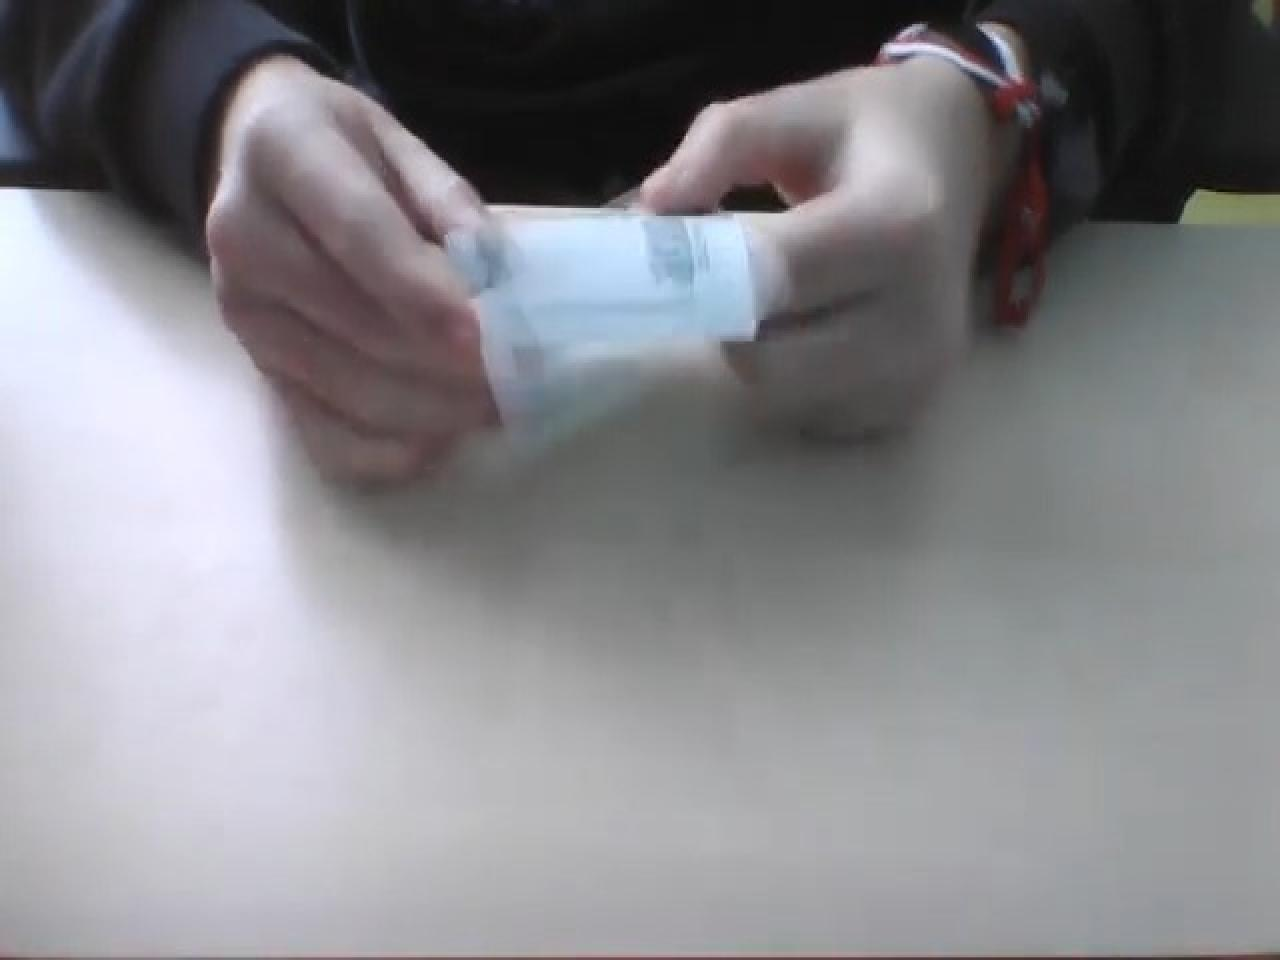100leva: (440, 198, 764, 368)
